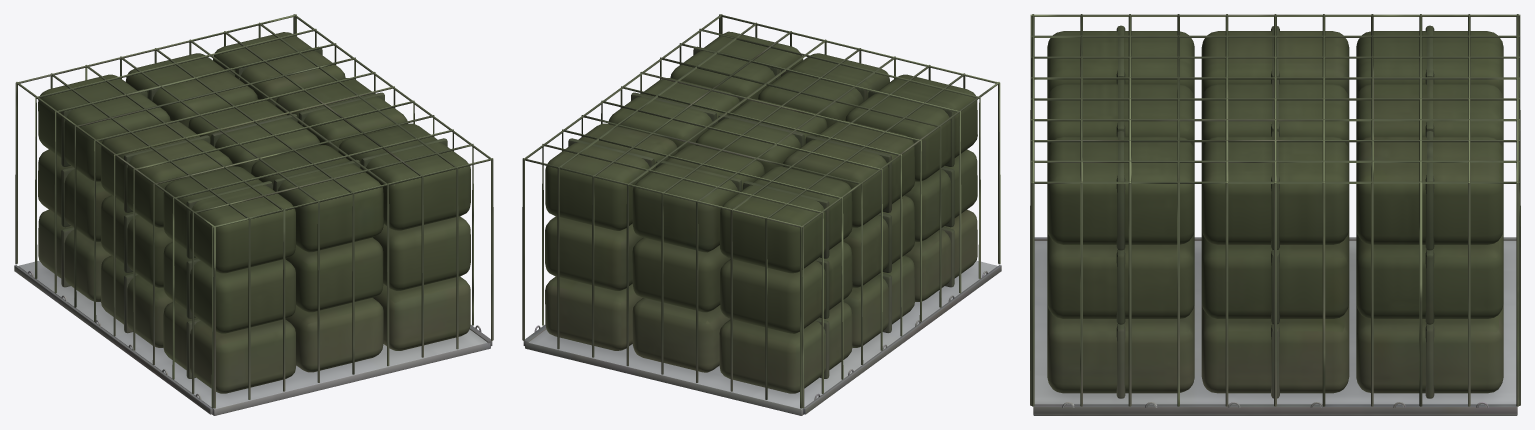
The model's file is mts-stowed.glb.
3 views of the same model, side by side, from view 1: azimuth 30°, elevation 25°; view 2: azimuth 150°, elevation 25°; view 3: azimuth 270°, elevation 25° (orthographic). The views are drawn at different scales.
Visible parts, largest first — view 1: MTS_packed; view 2: MTS_packed; view 3: MTS_packed.
Part boxes in pixels (bbox=[...]): MTS_packed: bbox=[14, 14, 493, 415]; MTS_packed: bbox=[522, 14, 1001, 415]; MTS_packed: bbox=[1030, 14, 1520, 415].
Size of the model in its own units: 2.28 by 1.47 by 2.78.
Materials: 5 (5 with a texture image).
